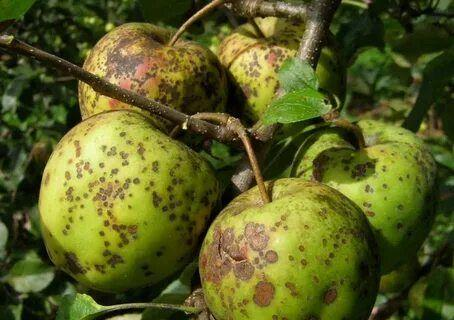Apple: (38, 108, 220, 298), (200, 172, 376, 320)
